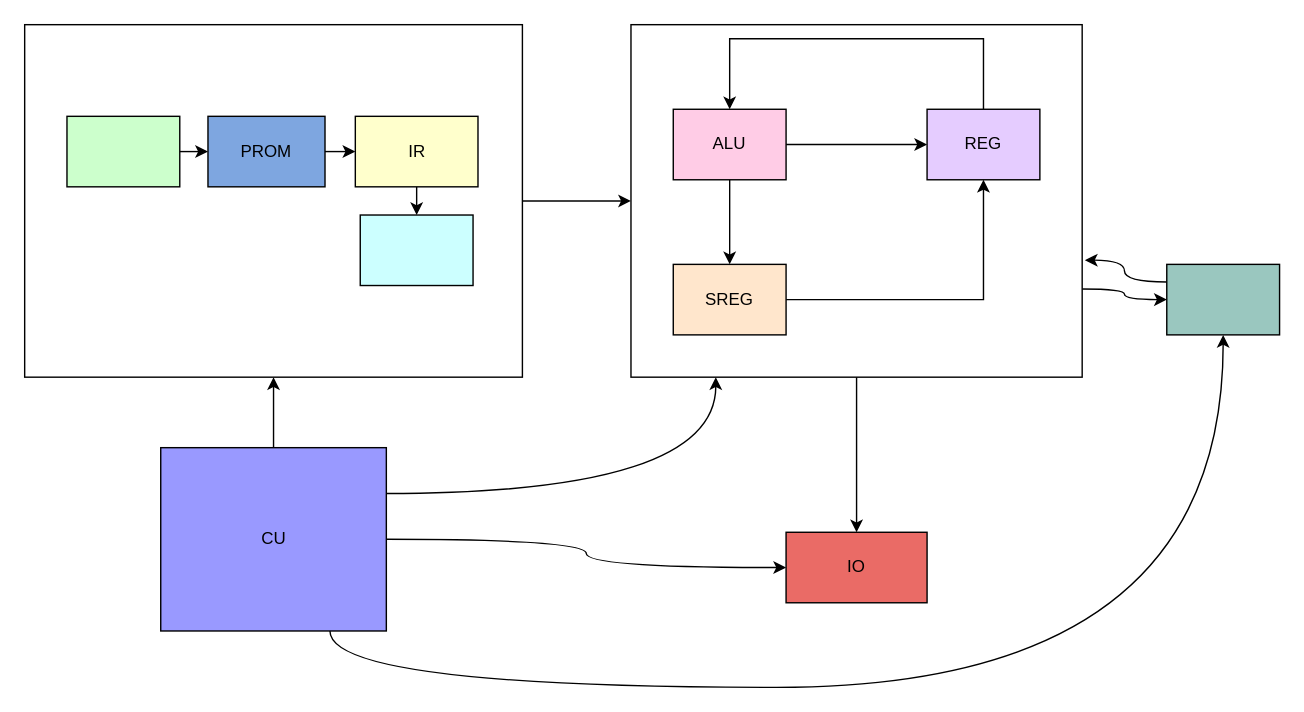
This 1304x712 diagram has some shape labels left out. Each missing label, with the box of its shape:
DEC: (359, 214, 473, 286)
PC: (66, 115, 180, 187)
RAM: (1165, 263, 1280, 335)
